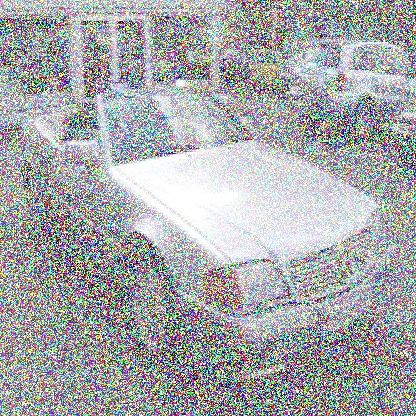Vehicle: (18, 84, 400, 400)
